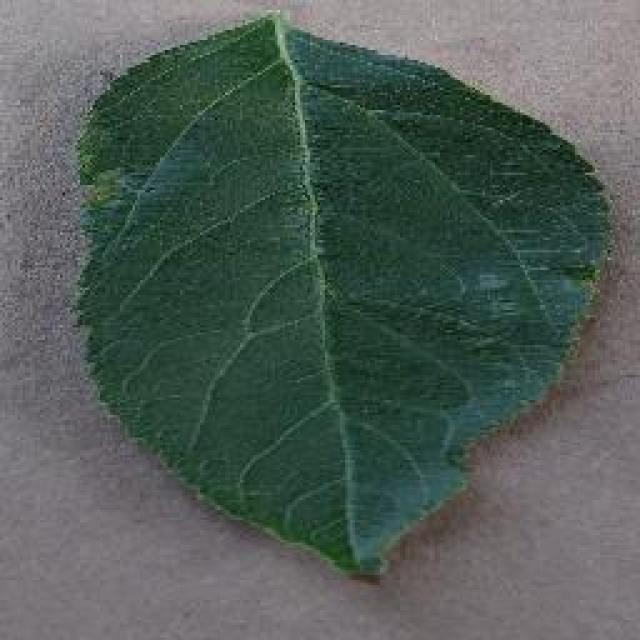apple healthy: (67, 5, 615, 580)
